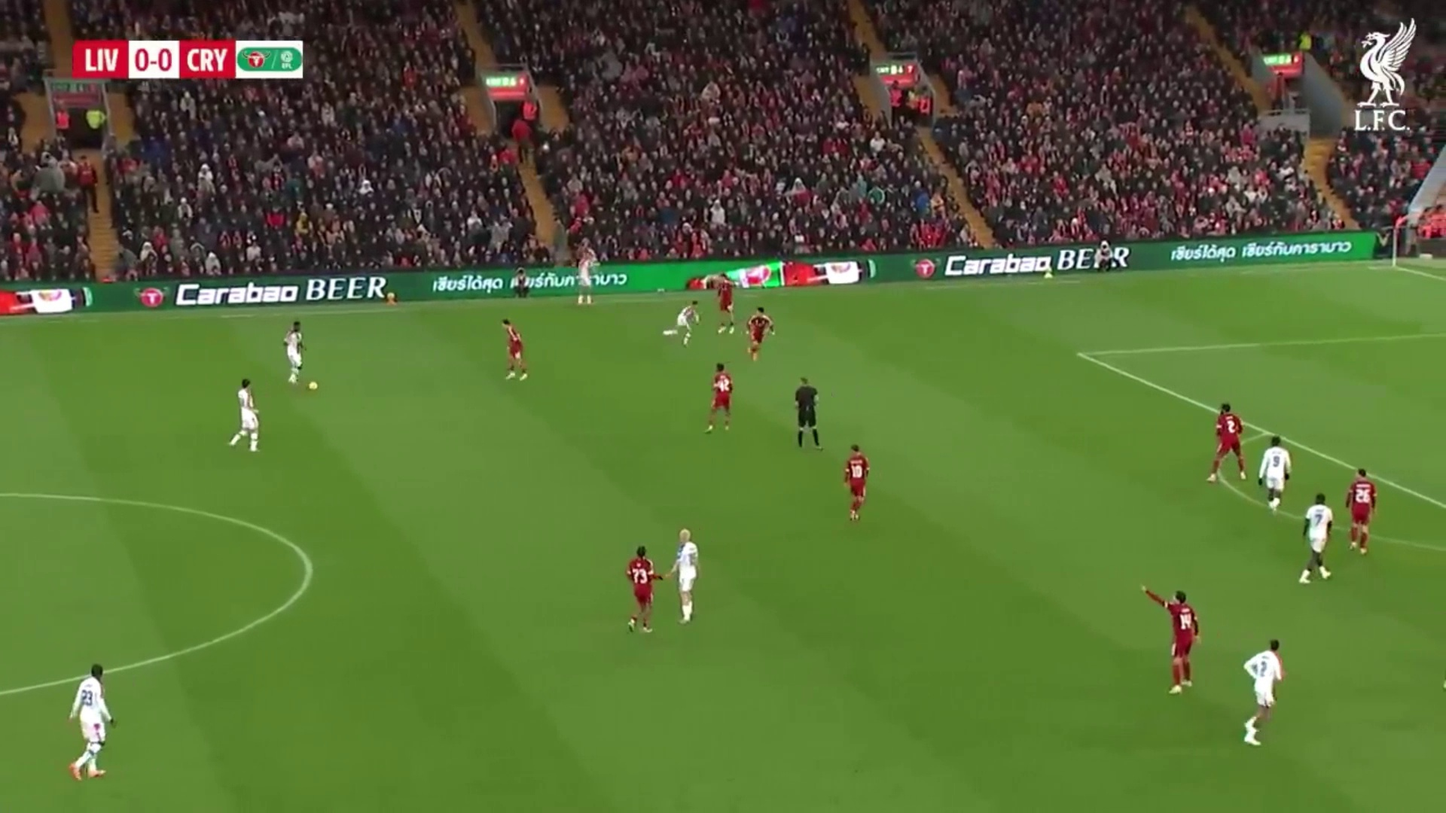player: (1148, 587, 1200, 695), (70, 663, 113, 781), (1238, 638, 1284, 748), (1166, 589, 1199, 696), (1298, 495, 1336, 583), (1209, 403, 1247, 483), (625, 544, 658, 636), (670, 529, 701, 625), (1347, 468, 1376, 556), (228, 379, 262, 453), (1259, 438, 1292, 512), (842, 443, 869, 524), (793, 377, 821, 450), (707, 363, 735, 434), (501, 318, 528, 384), (285, 322, 308, 386), (745, 309, 770, 364)
